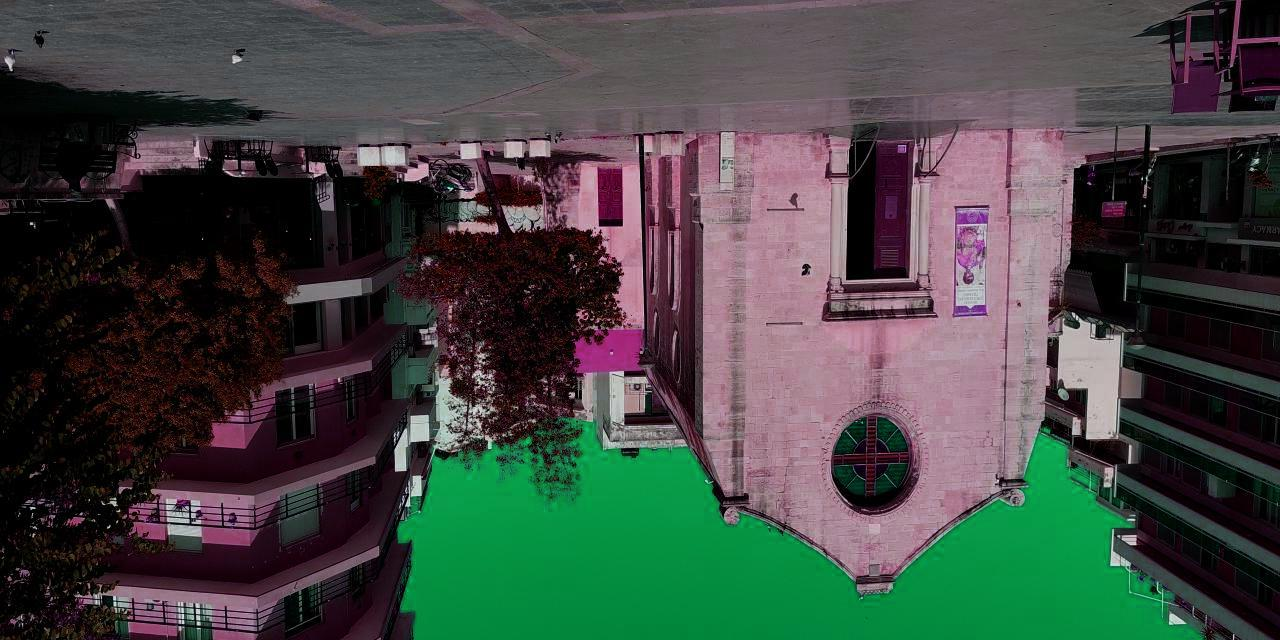Agia Aikaterini: (637, 129, 1077, 602)
